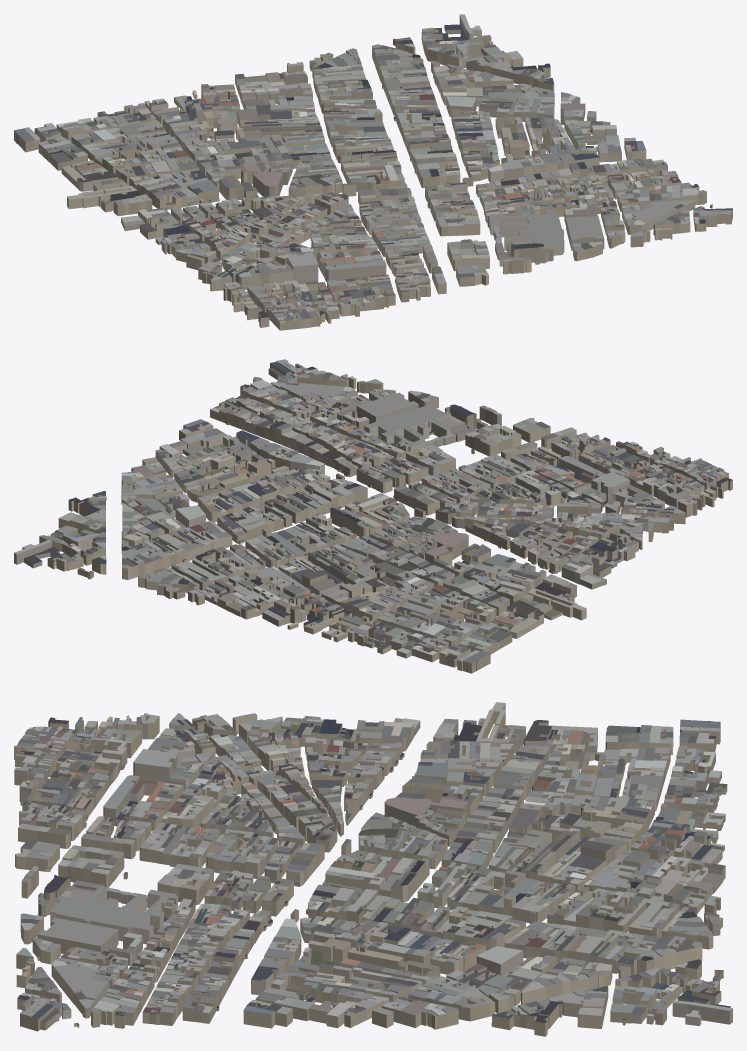
3 views of the same model, one above another, from view 1: azimuth 30°, elevation 25°; view 2: azimuth 150°, elevation 25°; view 3: azimuth 270°, elevation 25° (orthographic). The views are drawn at different scales.
Parts seen in each view (by area): view 1: tuile; view 2: tuile; view 3: tuile.
Boxes of the visible parts, x1,y1,x2,y2 form: tuile: (14, 14, 732, 330); tuile: (14, 359, 732, 673); tuile: (14, 702, 732, 1036).
Bounding box in the file's own units: 1092 × 42.66 × 1032.
